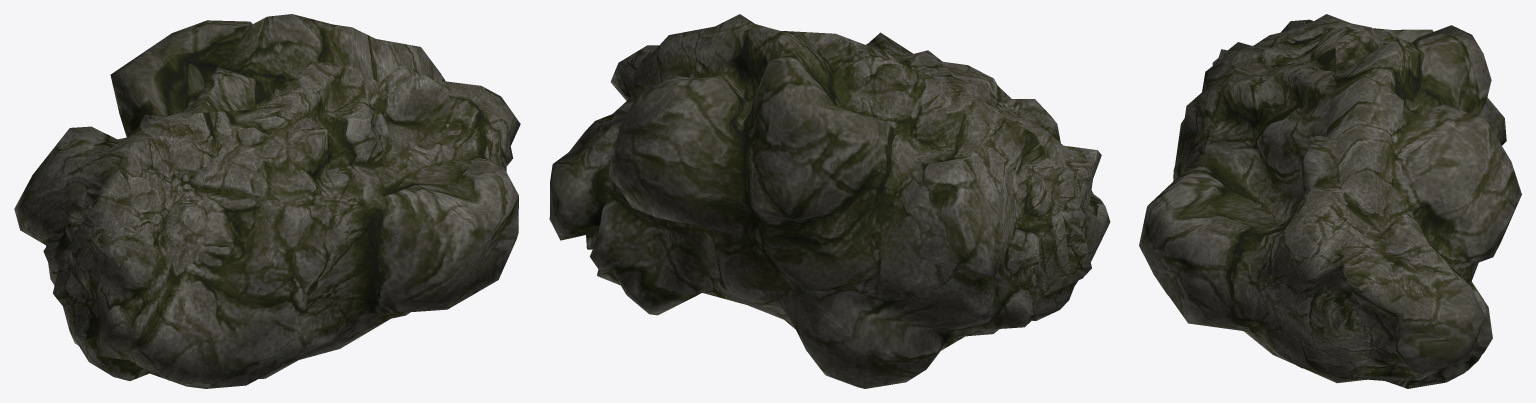
File: TI_Cliff_01_l.fbx
The picture shows the model from 3 angles, left to right: view 1: azimuth 30°, elevation 25°; view 2: azimuth 150°, elevation 25°; view 3: azimuth 270°, elevation 25°; orthographic projection.
Parts seen in each view (by area): view 1: TI_Cliff_01_l; view 2: TI_Cliff_01_l; view 3: TI_Cliff_01_l.
Part boxes in pixels (left/top/right/bottom): TI_Cliff_01_l: left=14, top=14, right=520, bottom=388; TI_Cliff_01_l: left=549, top=14, right=1110, bottom=388; TI_Cliff_01_l: left=1139, top=14, right=1521, bottom=388.
Size of the model in its own units: 3.22 by 2.12 by 2.24.
